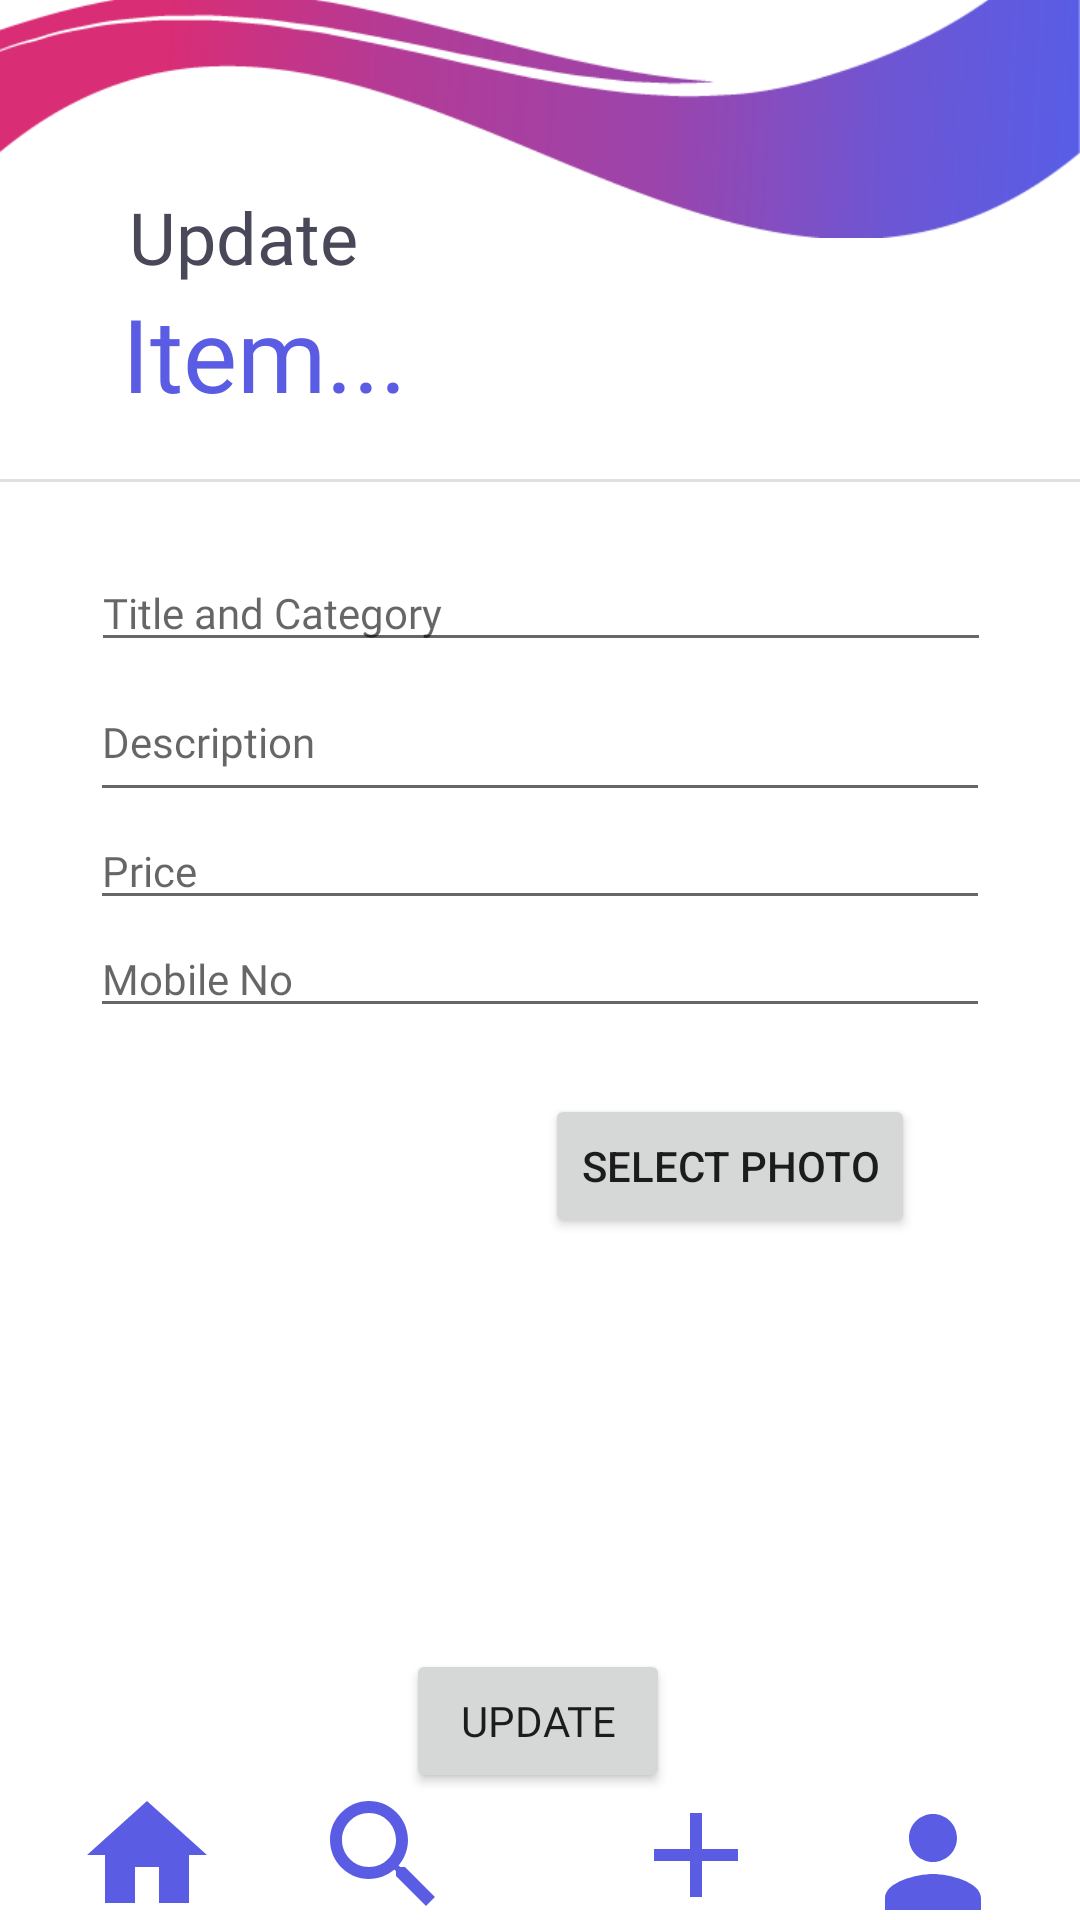

Named icons in this screenshot (1080w x 1920h) and their bounding boxes, [x1,y1,x2,y2]:
home: [87,1801,207,1903]
plus: [654,1813,738,1897]
profile: [885,1814,981,1910]
search: [330,1801,435,1906]
